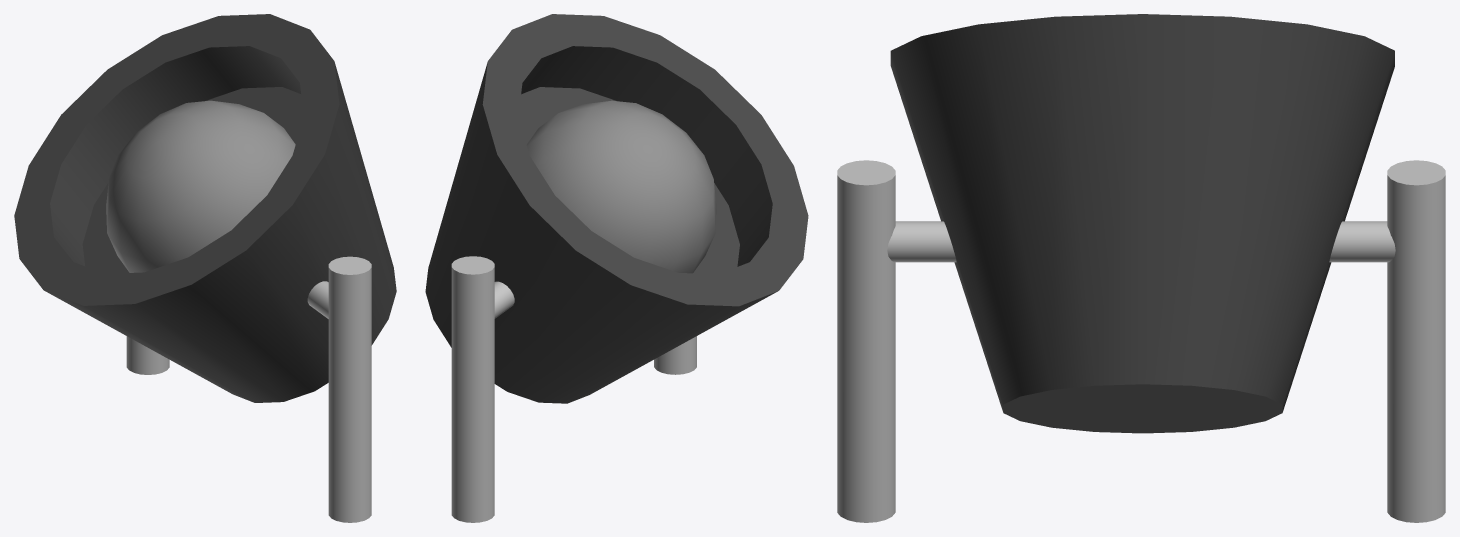
File: M_BatSignal.FBX
3 renders of one model, left to right at view 1: azimuth 30°, elevation 25°; view 2: azimuth 150°, elevation 25°; view 3: azimuth 270°, elevation 25°, orthographic. The views are drawn at different scales.
Visible parts, largest first — view 1: Cylinder003; view 2: Cylinder003; view 3: Cylinder003.
Part boxes in pixels (x1=…): Cylinder003: x1=14, y1=14, x2=396, y2=522; Cylinder003: x1=425, y1=14, x2=808, y2=522; Cylinder003: x1=837, y1=14, x2=1445, y2=522.
Size of the model in its own units: 1.16 by 1.33 by 1.3.
